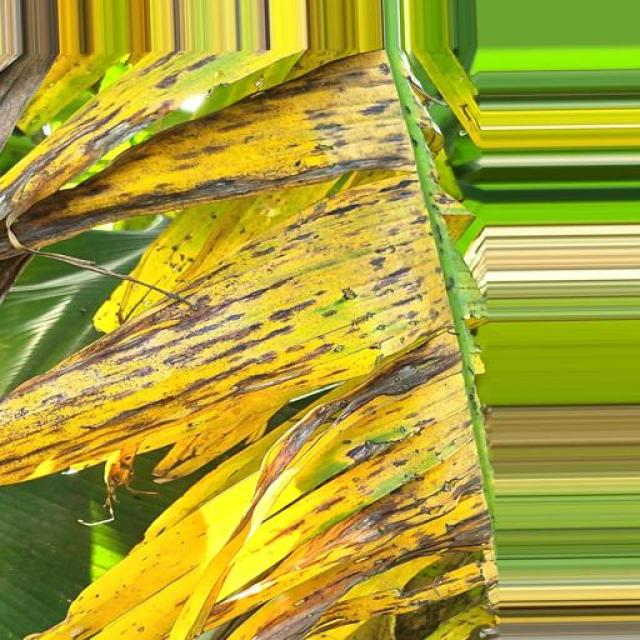Cordana: (0, 43, 530, 640)
